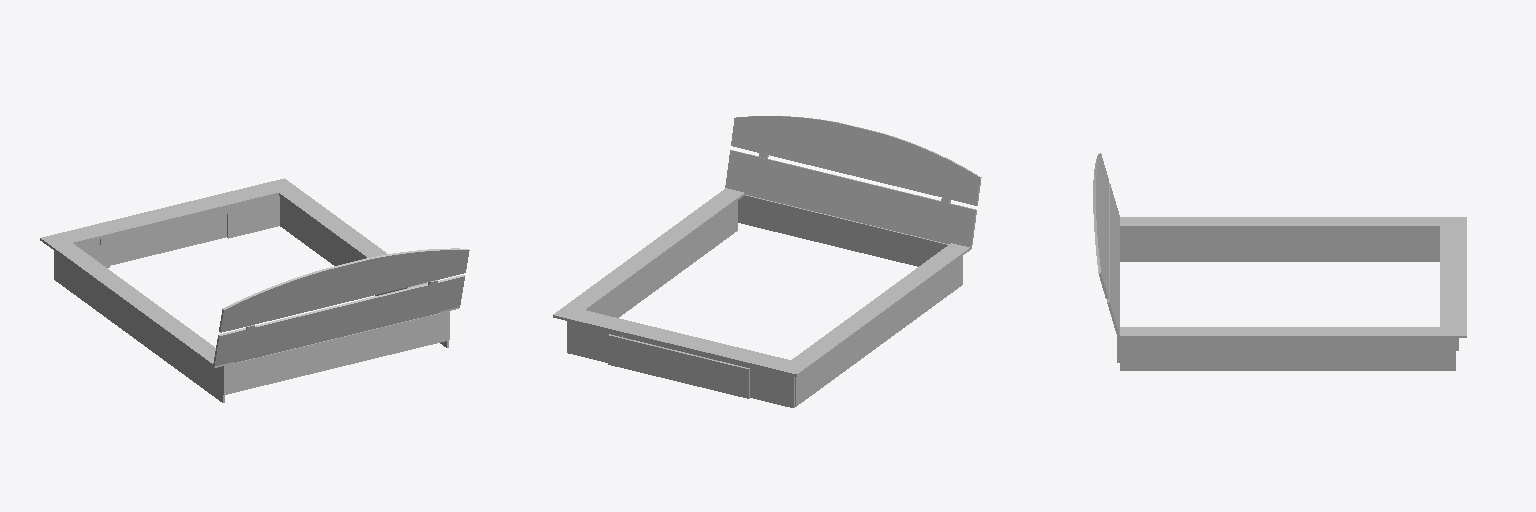
Rendered from housesp_100.obj.
3 views of the same model, side by side, from view 1: azimuth 30°, elevation 25°; view 2: azimuth 150°, elevation 25°; view 3: azimuth 270°, elevation 25° (orthographic).
Bounding box in the file's own units: 167 × 78.5 × 220.